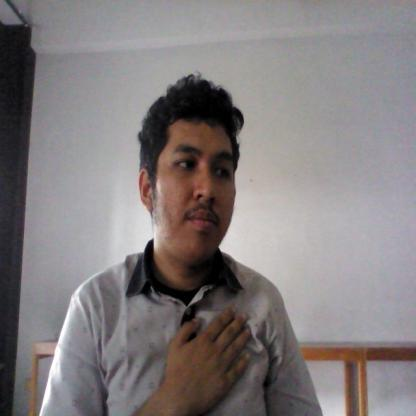Saya: (152, 302, 254, 414)
